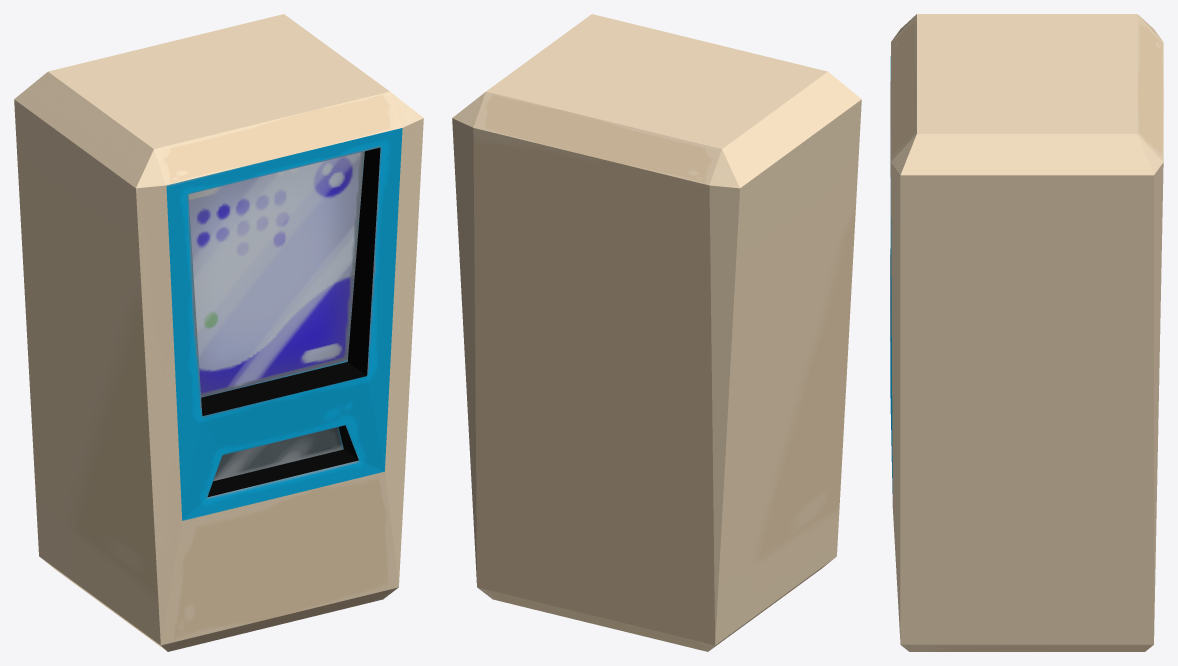
File: billet.fbx
3 renders of one model, left to right at view 1: azimuth 30°, elevation 25°; view 2: azimuth 150°, elevation 25°; view 3: azimuth 270°, elevation 25°, orthographic. The views are drawn at different scales.
Visible parts, largest first — view 1: billet; view 2: billet; view 3: billet.
Boxes of the visible parts, x1,y1,x2,y2 form: billet: (14, 14, 423, 651); billet: (452, 14, 861, 651); billet: (890, 14, 1163, 651).
Bounding box in the file's own units: 0.6524 × 1.09 × 0.5149.
